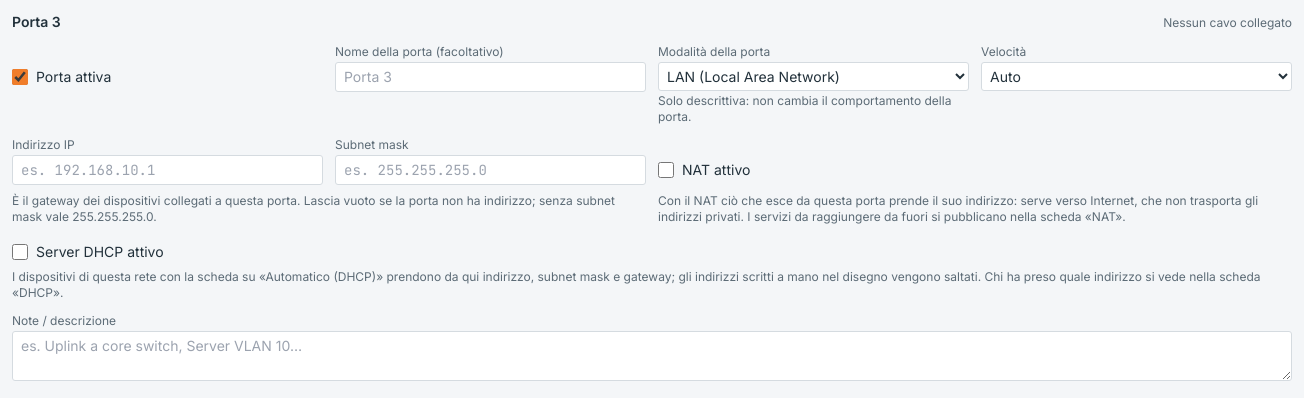
Test: PortEditor — what every port has › names the port in its title, with the name it is given
Expected: the heading "Porta 3" is shown, [12, 12, 61, 32]
In the field labelled "Nome della porta (facoltativo)": (490, 77) [335, 62, 646, 92], type "Internet"
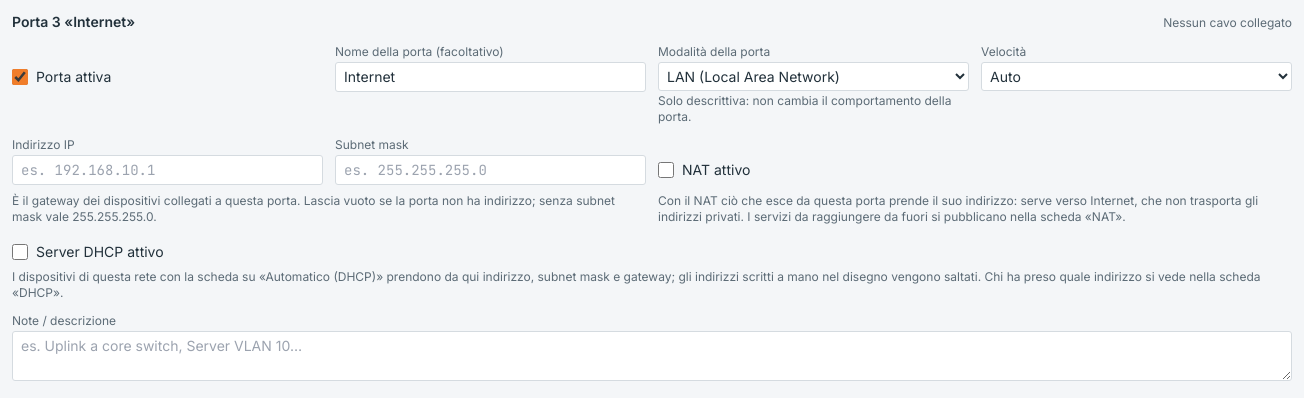
Expected: the heading "Porta 3 «Internet»" is shown, [12, 12, 135, 32]
